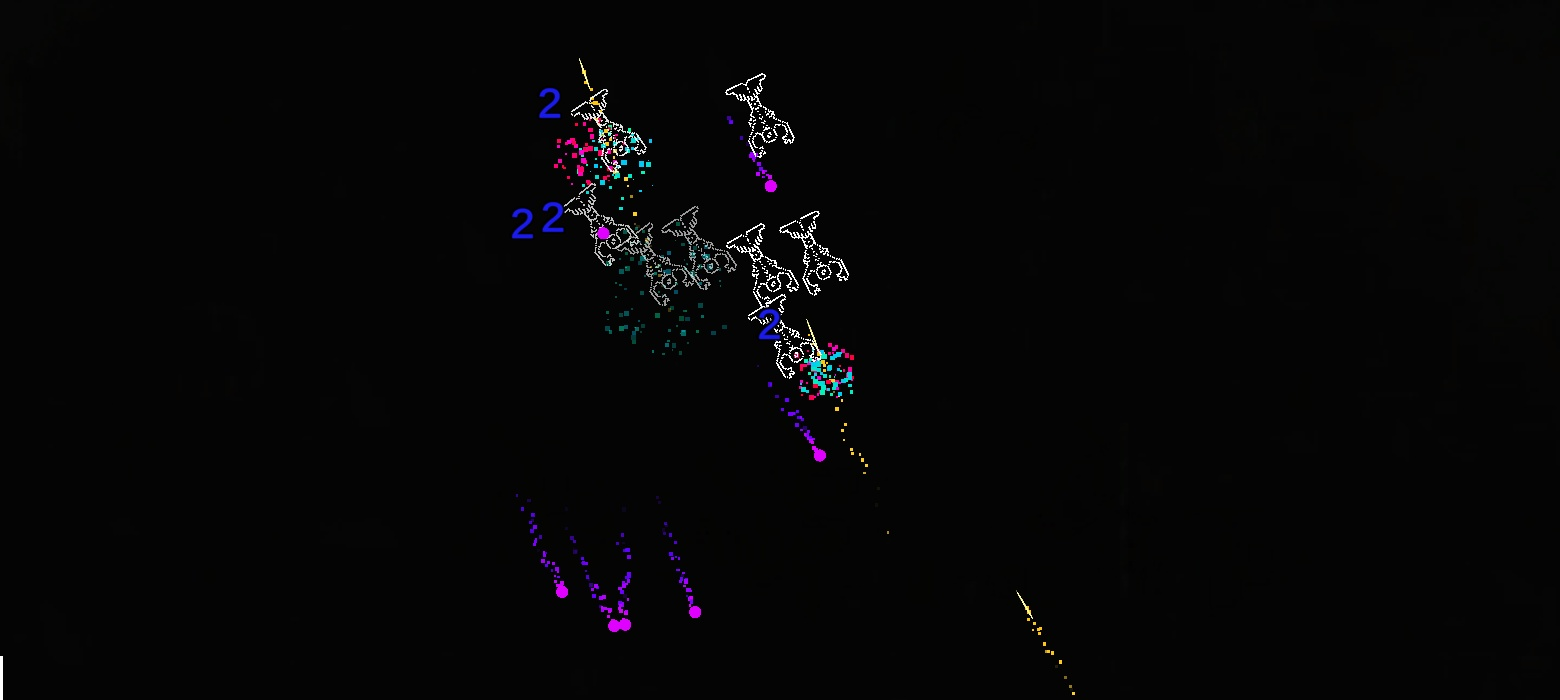enemy: (560, 182, 640, 267), (615, 222, 694, 307), (570, 89, 647, 175), (746, 293, 822, 380), (661, 205, 737, 291), (726, 223, 800, 309), (778, 210, 851, 297), (724, 72, 795, 159)
